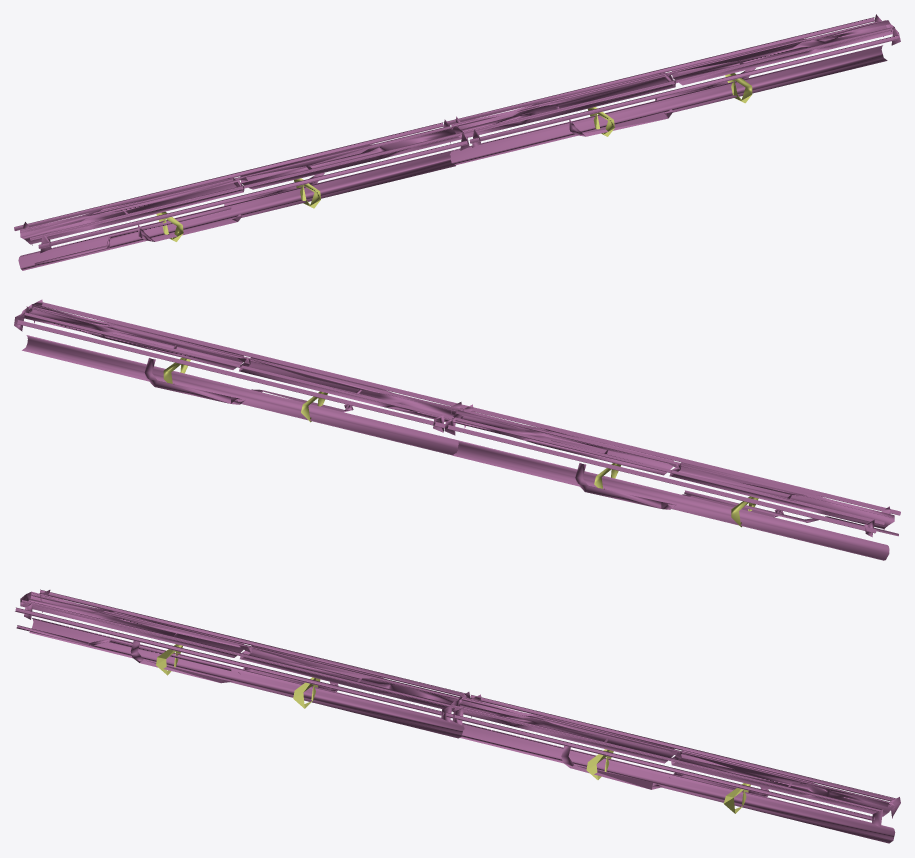
Rendered from backdrop_bridge_a_lod2.glb.
The picture shows the model from 3 angles, top to bottom: view 1: azimuth 30°, elevation 25°; view 2: azimuth 150°, elevation 25°; view 3: azimuth 330°, elevation 25°; orthographic projection.
Bounding box in the file's own units: 341 × 16.28 × 19.5.
